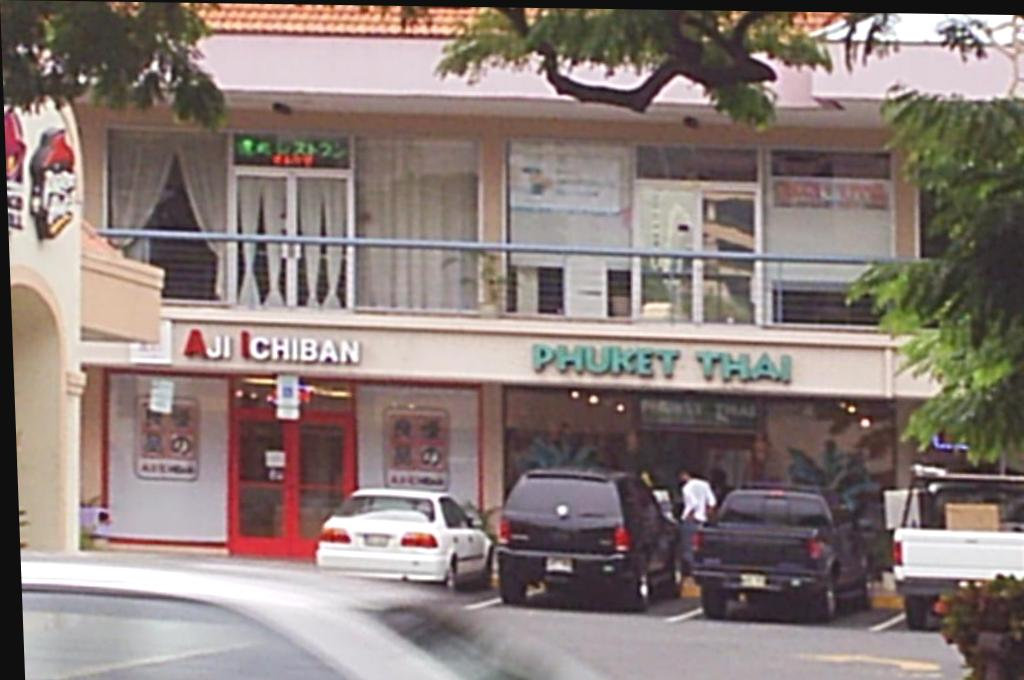License_Plate: (545, 557, 572, 571), (740, 572, 766, 585), (365, 535, 388, 548)
